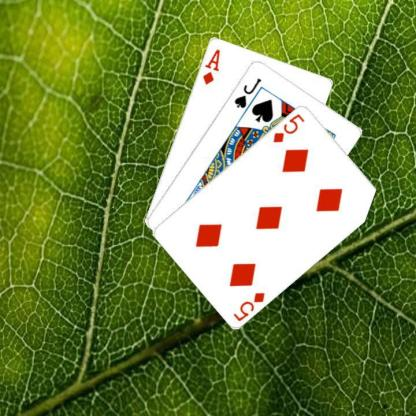5D: (271, 110, 306, 144), (231, 289, 266, 322)
AD: (200, 46, 221, 86)
JS: (231, 75, 262, 109)
